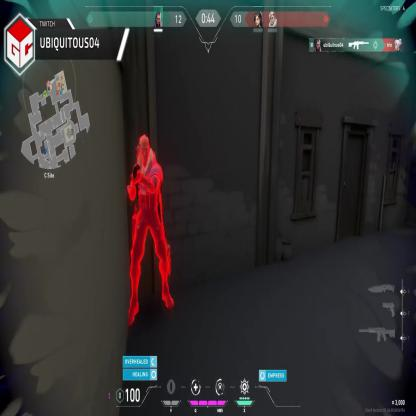enemy: (126, 134, 174, 326)
enemy_head: (138, 136, 151, 167)
